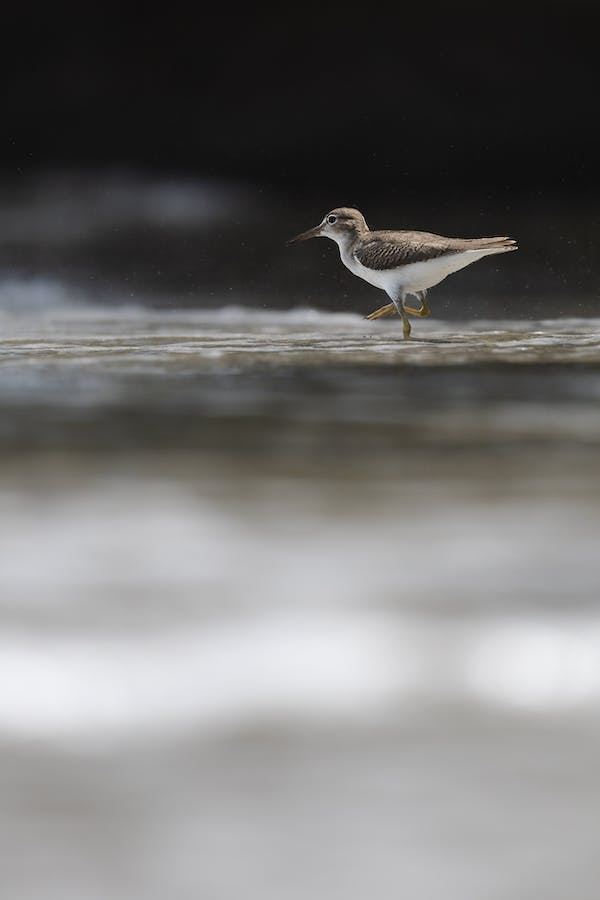Walking: (269, 126, 537, 365)
